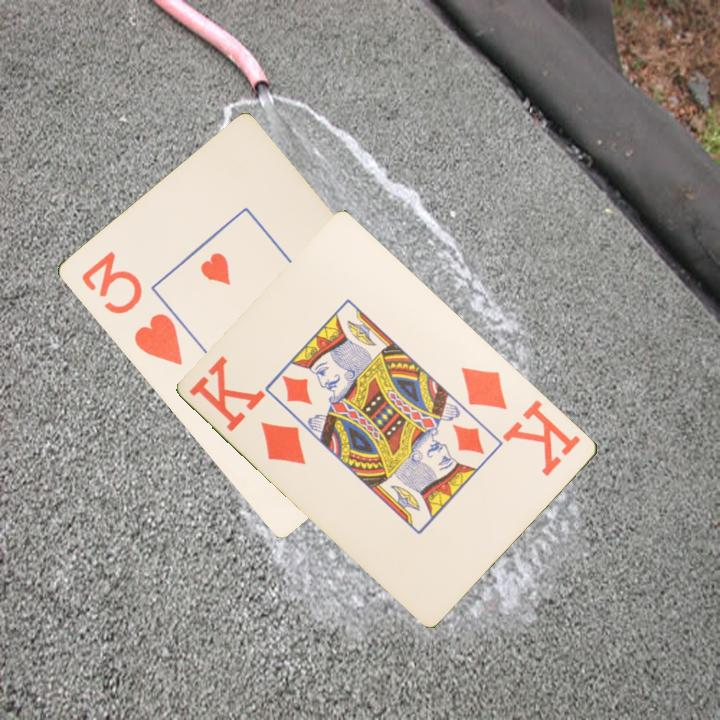3h: (77, 247, 185, 369)
Kd: (458, 363, 584, 480), (185, 353, 310, 468)
